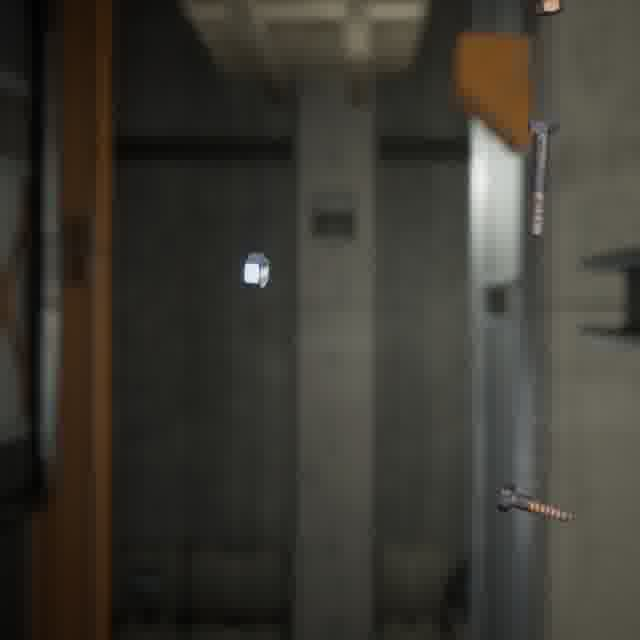bolt: (522, 113, 563, 239), (493, 477, 578, 526)
nut: (239, 247, 273, 294)
